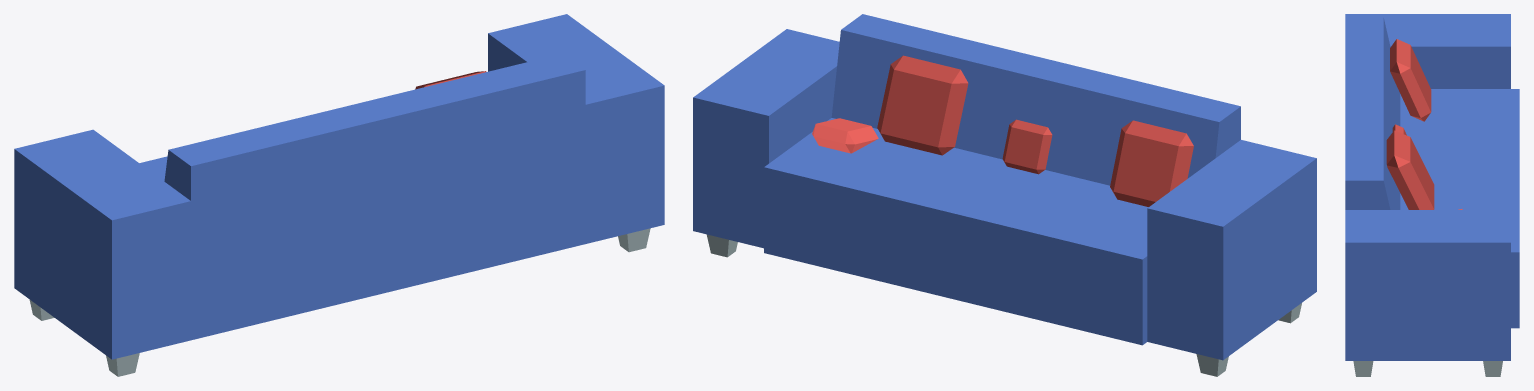
Rendered from sofaDesign.obj.
3 views of the same model, side by side, from view 1: azimuth 30°, elevation 25°; view 2: azimuth 150°, elevation 25°; view 3: azimuth 270°, elevation 25° (orthographic). The views are drawn at different scales.
Parts seen in each view (by area): view 1: loungeDesignSofa; view 2: loungeDesignSofa, pillow, pillow.002, pillow.001, pillow.003; view 3: loungeDesignSofa, pillow, pillow.002.
Part boxes in pixels (x1=…): loungeDesignSofa: x1=14, y1=14, x2=664, y2=376; loungeDesignSofa: x1=693, y1=14, x2=1316, y2=376; pillow: x1=877, y1=55, x2=968, y2=155; pillow.002: x1=1110, y1=120, x2=1193, y2=206; pillow.001: x1=1002, y1=119, x2=1052, y2=174; pillow.003: x1=812, y1=118, x2=878, y2=153; loungeDesignSofa: x1=1345, y1=14, x2=1519, y2=376; pillow: x1=1386, y1=130, x2=1434, y2=209; pillow.002: x1=1390, y1=39, x2=1431, y2=121.
Bounding box in the file's own units: 4.85 × 1.67 × 1.56.
